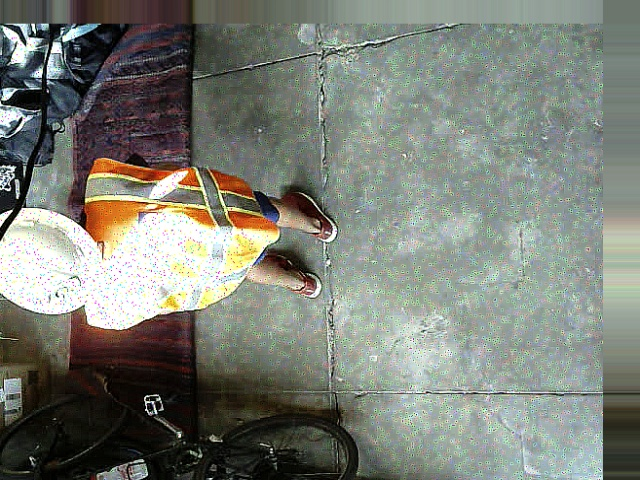eight: (45, 275, 81, 310)
